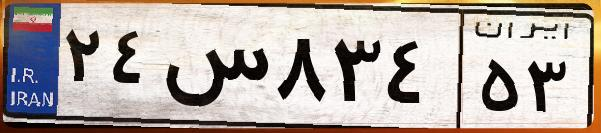2: (57, 26, 110, 100)
3: (330, 28, 385, 110), (525, 38, 570, 115)
4: (385, 28, 445, 110), (110, 28, 158, 98)
5: (475, 38, 525, 113)
8: (270, 28, 330, 110)
س: (158, 20, 270, 120)
